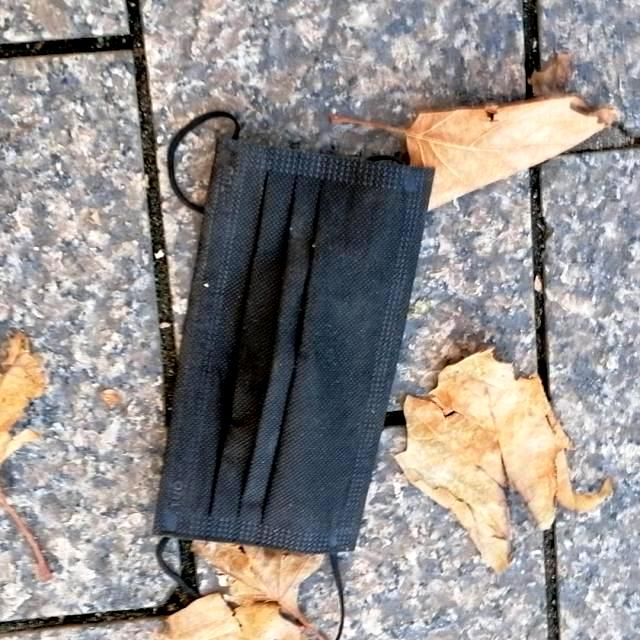Mask: (149, 105, 437, 640)
